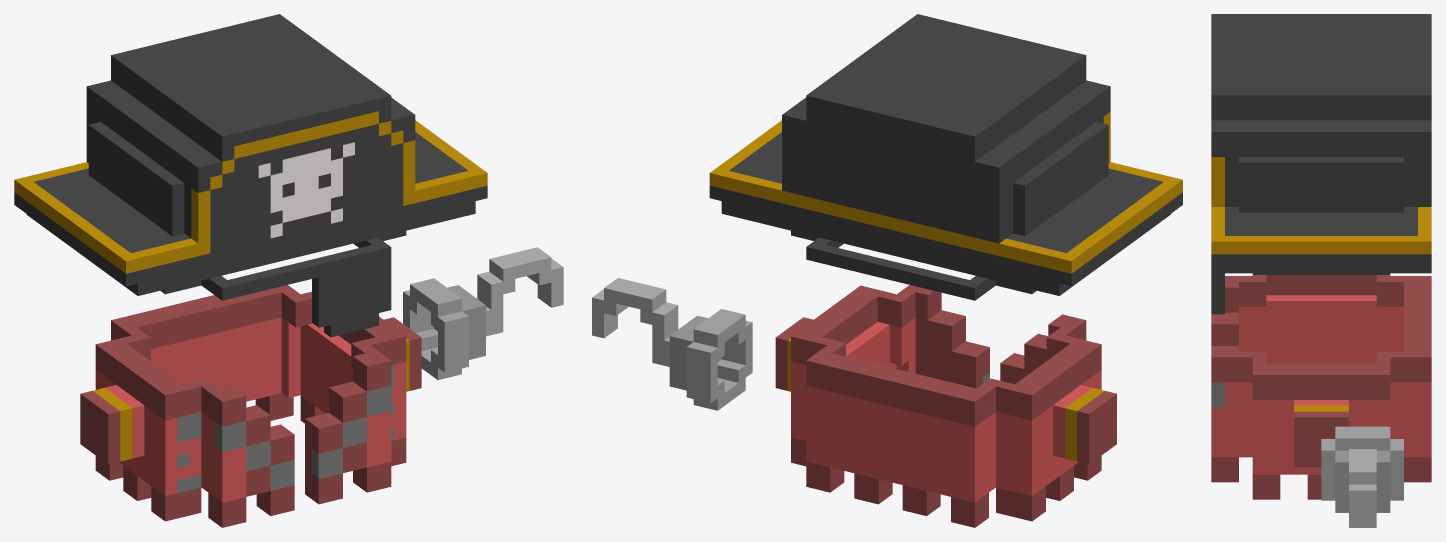
File: 62- pirate.fbx
3 views of the same model, side by side, from view 1: azimuth 30°, elevation 25°; view 2: azimuth 150°, elevation 25°; view 3: azimuth 270°, elevation 25° (orthographic).
Visible parts, largest first — view 1: 221, 222, 221.1, 223, 224, Saleev_R, Saleev_R_1, Saleevs_L; view 2: 221, 222, 223, 221.1, 224, Saleev_R, Saleevs_L, Saleev_R_1; view 3: 221, 222, 223, 221.1, Saleevs_L, 224, Saleev_L_1.
Boxes of the visible parts, x1,y1,x2,y2 form: 221: (14, 14, 487, 295); 222: (95, 285, 406, 527); 221.1: (14, 111, 487, 273); 223: (403, 247, 563, 379); 224: (160, 231, 406, 337); Saleev_R: (80, 385, 144, 464); Saleev_R_1: (92, 388, 132, 461); Saleevs_L: (384, 317, 421, 390); 221: (709, 14, 1182, 295); 222: (791, 285, 1101, 527); 223: (592, 278, 752, 410); 221.1: (709, 112, 1182, 273); 224: (791, 230, 1036, 300); Saleev_R: (1053, 385, 1116, 464); Saleevs_L: (775, 317, 813, 390); Saleev_R_1: (1065, 388, 1104, 461); 221: (1211, 14, 1431, 273); 222: (1211, 275, 1431, 499); 223: (1321, 426, 1403, 527); 221.1: (1211, 157, 1431, 254); Saleevs_L: (1294, 400, 1348, 467); 224: (1211, 273, 1390, 314); Saleev_L_1: (1294, 405, 1348, 411).
Size of the model in its own units: 421 by 310 by 160.
10 materials, 9 textured.
